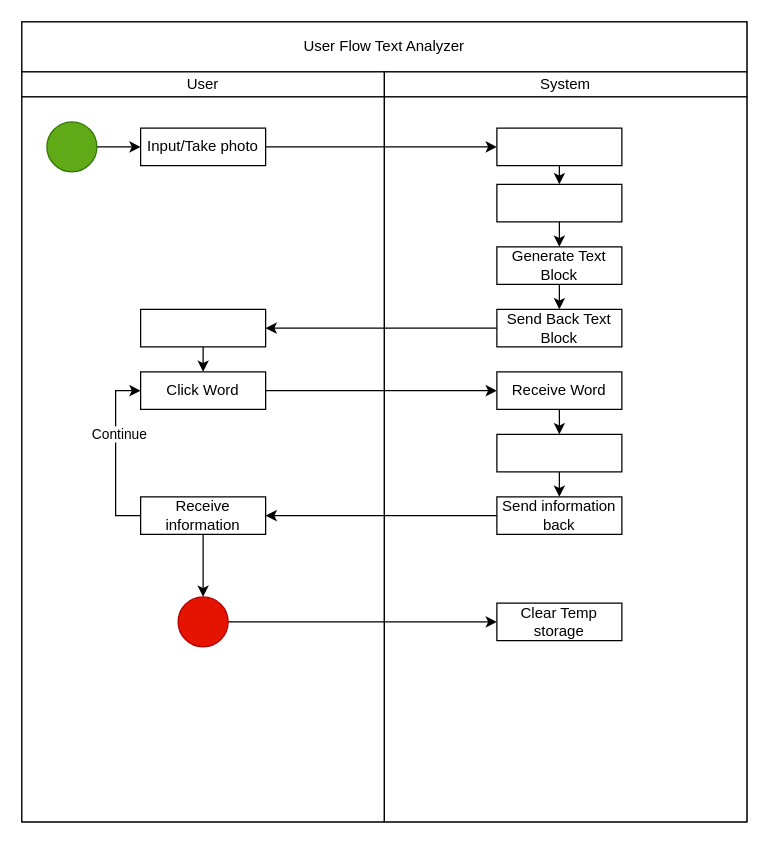
Some shapes in this 769 by 844 pixel diagram are drawn without their labels. The centre of each missing label's shape, as x and y in pixels:
"Analyze Photo" belongs at point 559,202.
"End" belongs at point 202,621.
"Pull all related information" belongs at point 559,452.
"Receive Photo" belongs at point 559,146.
"Receive Text Block" belongs at point 202,327.
"Start" belongs at point 71,146.
